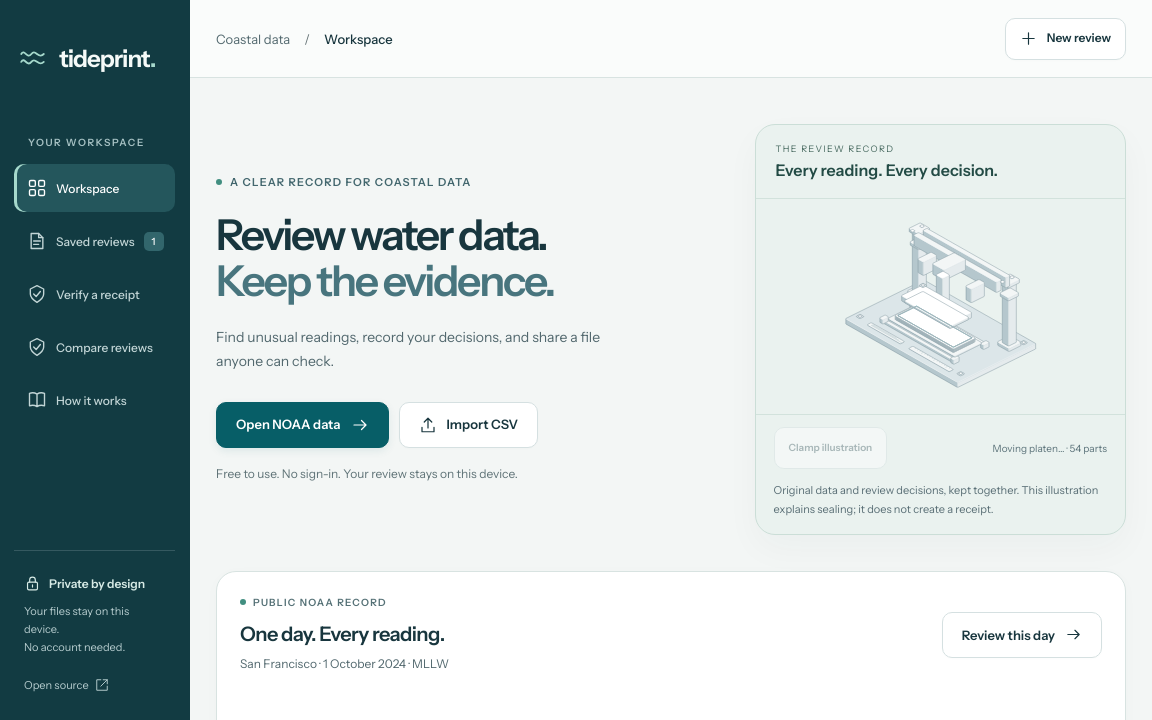
Test: malformed saved decisions show a recoverable error instead of crashing the review
Click the button "Saved reviews 1" at (94, 241), box [14,217,175,265]
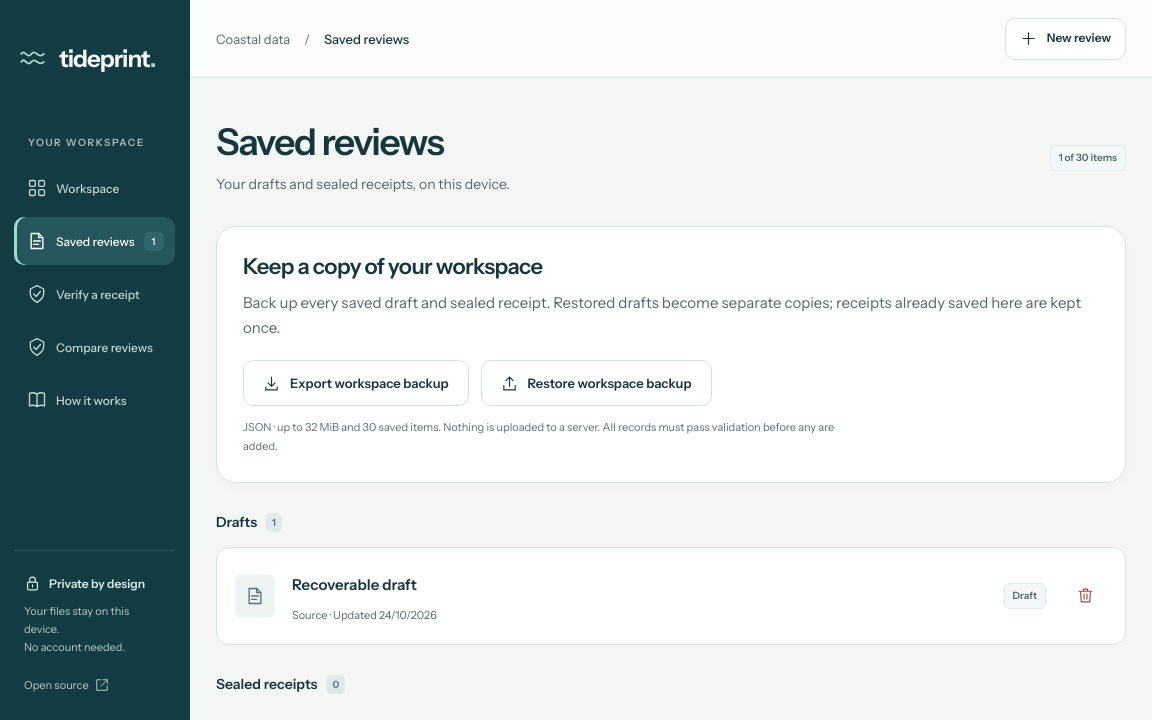
Click the button "Recoverable draft" at (354, 584), box [292,567,417,601]
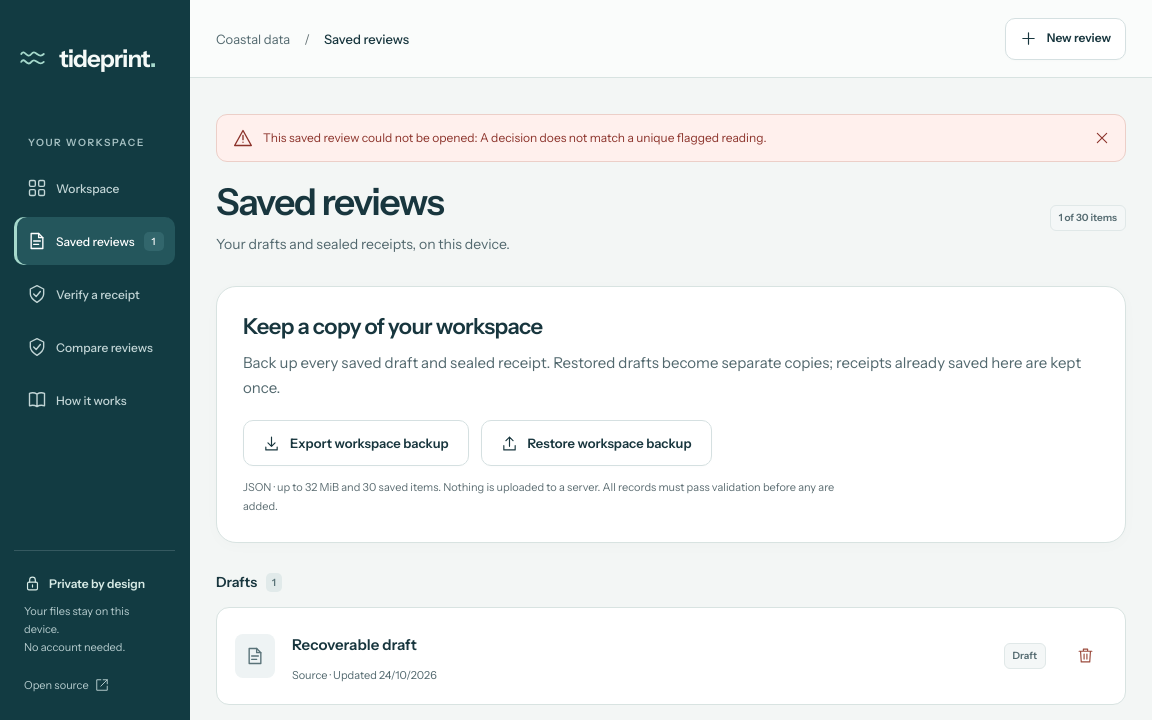
expect the heading "Saved reviews" is shown: met, box [216,179,444,224]
expect the text "This saved review could not be opened" is shown: met, box [263,130,766,145]
